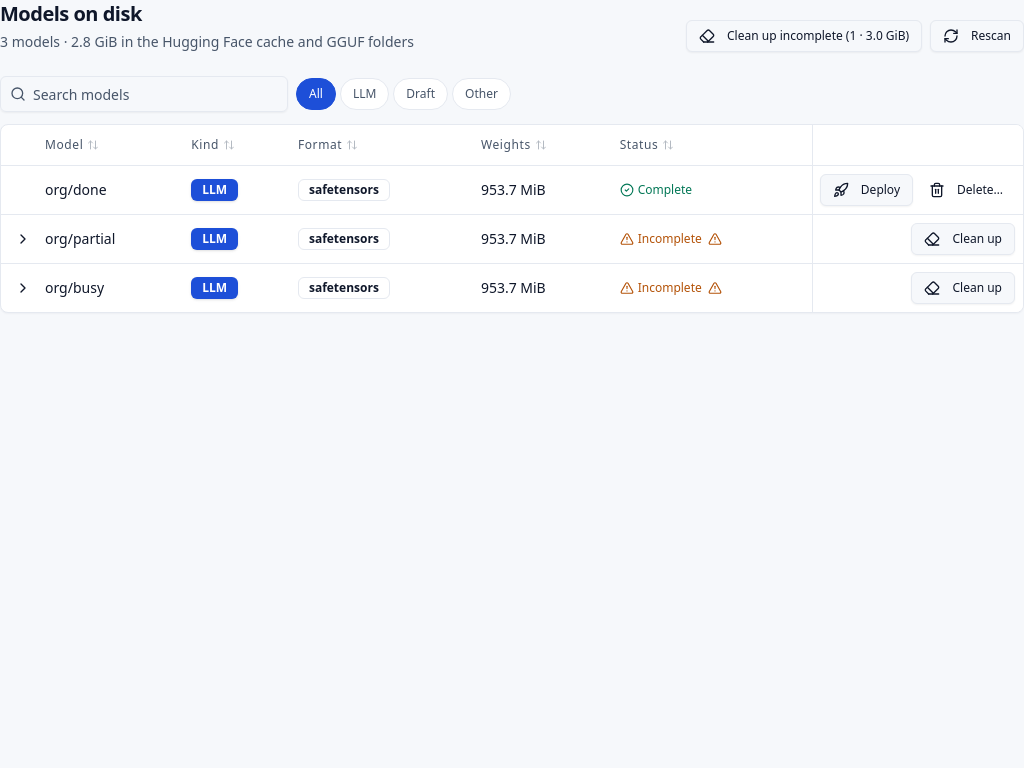
Scenario: Models › shows preview notes (e.g. shared blobs)
The image size is (1024, 768).
Click the button with aria-label "Delete done". click: (966, 190)
box: [917,174,1015,206]
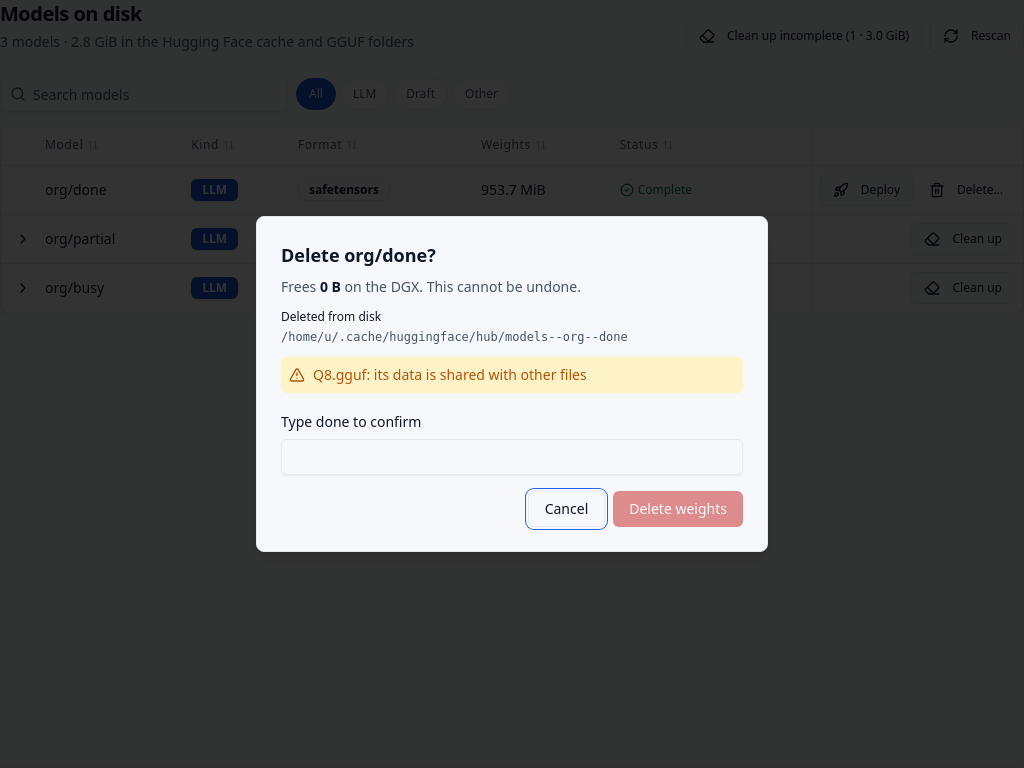
Expected: the text "Q8.gguf: its data is shared with other files" is shown, [313,365,587,385]
